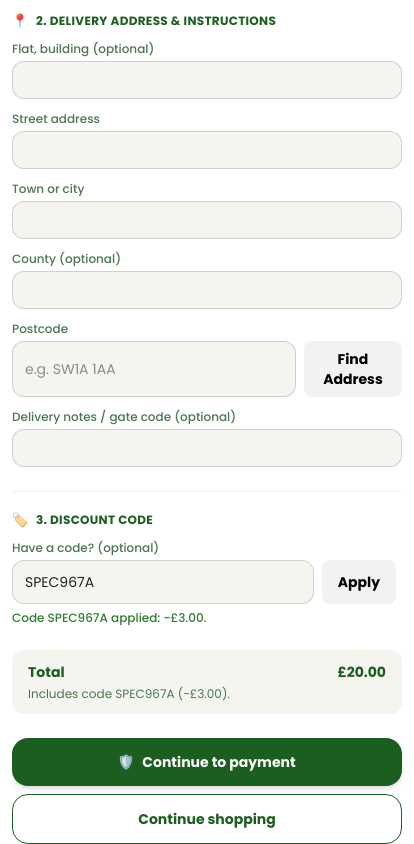
Test: CheckoutForm pre-filled code › shows the discounted total while the field holds the code, and not after an edit
(page scrolled)
Replace the text in the field with id "discountCode" with "OTHER". click: point(163, 582)
box: x1=12 y1=560 x2=314 y2=604
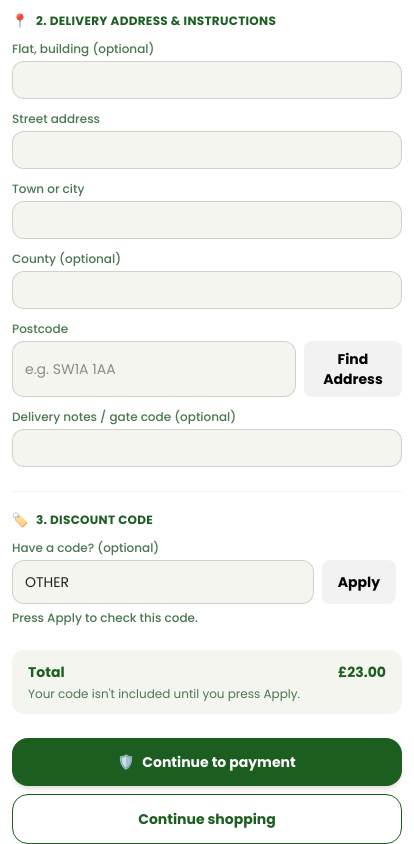
Expected: the element showing "Total £23.00 Your code isn't included until you press Apply." is shown, x1=12 y1=650 x2=402 y2=714
Expected: the text "Includes code" is gone
// Normalised: the same code in lower case, with spaces, still matches.
Replace the text in the field with id "discountCode" with " spec967a ". click: point(163, 582)
box: x1=12 y1=560 x2=314 y2=604
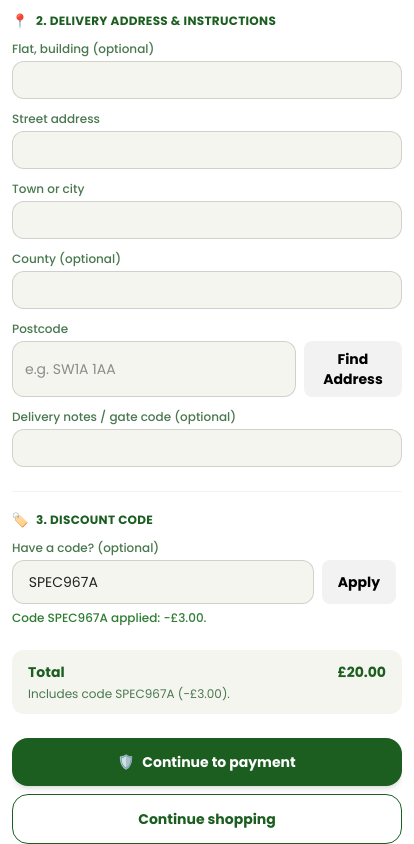
Expected: the element showing "Total £20.00 Includes code SPEC967A (−£3.00)." is shown, x1=12 y1=650 x2=402 y2=714
